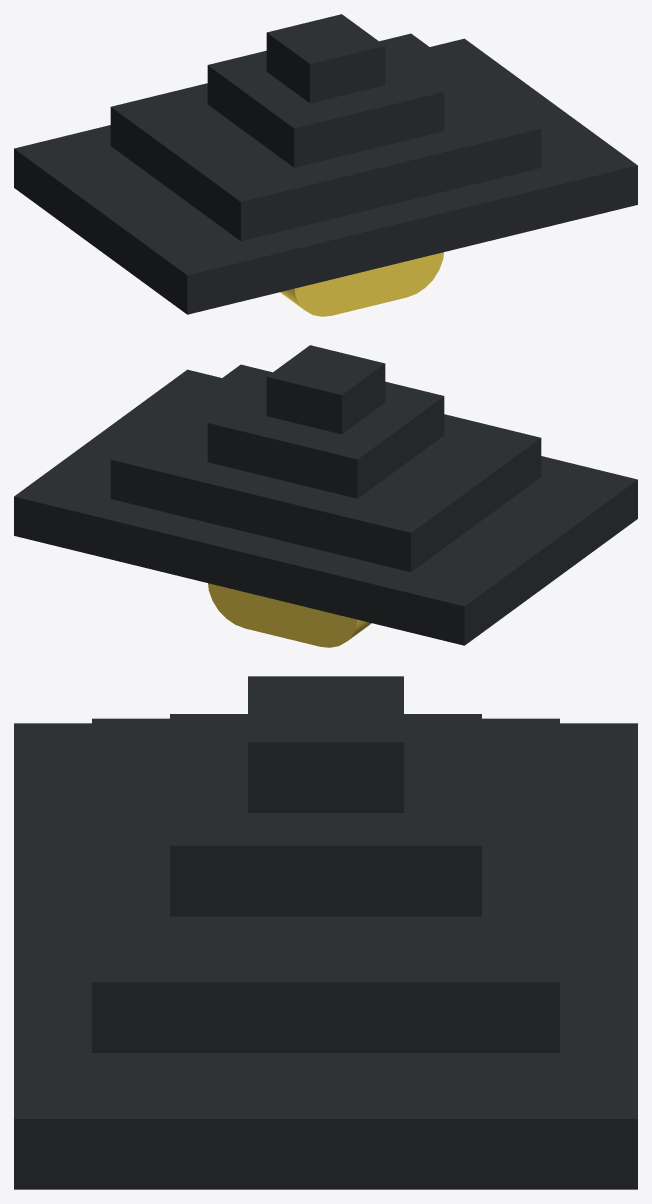
File: light_plafonnier.glb
3 renders of one model, top to bottom at view 1: azimuth 30°, elevation 25°; view 2: azimuth 150°, elevation 25°; view 3: azimuth 270°, elevation 25°, orthographic. The views are drawn at different scales.
Visible parts, largest first — view 1: generated(Clone); view 2: generated(Clone); view 3: generated(Clone).
Part boxes in pixels (x1,y1,x2,y2): generated(Clone): (14, 14, 637, 316); generated(Clone): (14, 345, 637, 647); generated(Clone): (14, 676, 637, 1189).
Size of the model in its own units: 12 by 6 by 8.
1 material, 1 textured.
